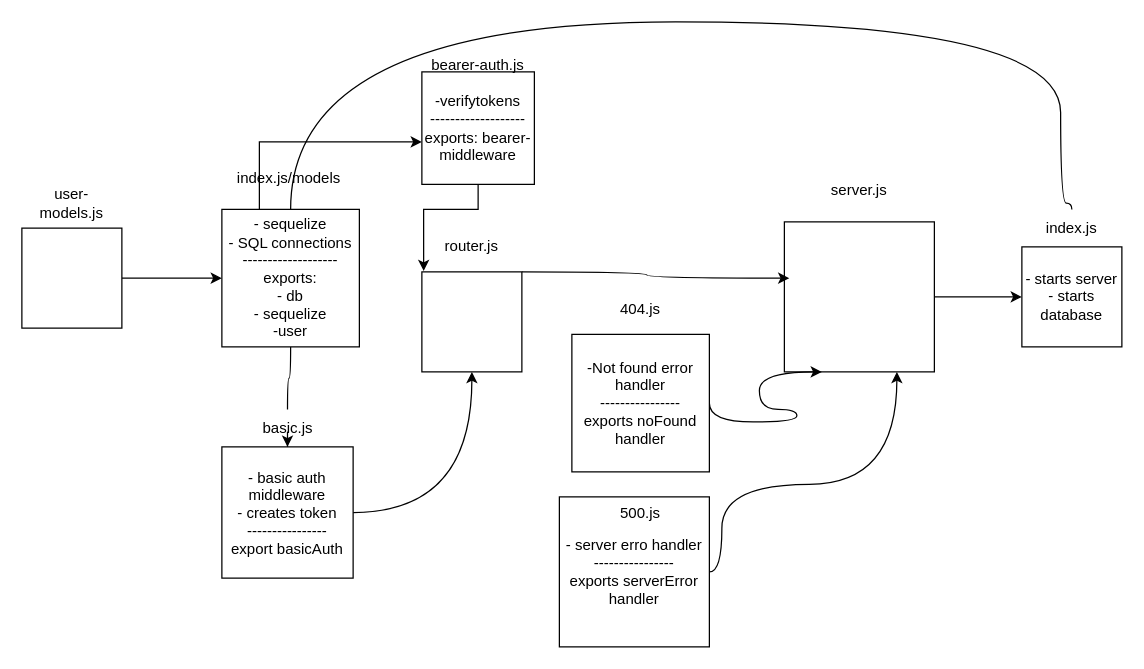
Some shapes in this 1144 by 669 pixel diagram are drawn without their labels. Here are the shapes that lost their labels. From the top down, the box of each, then its label:
(21, 227, 122, 328): user model ------------------- exports: user model
(783, 221, 934, 372): - Server - app initiation - port listner --------------- exports: - app - start
(421, 271, 522, 372): - routers -signin router -signup router ---------------- exports router
